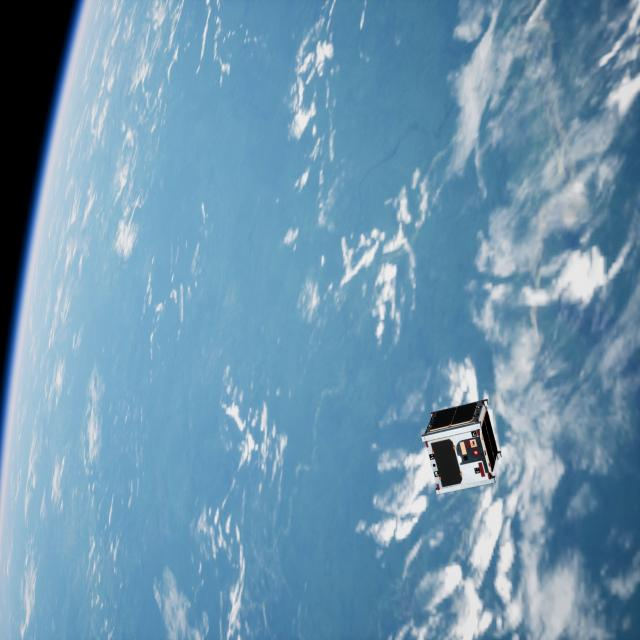satellite: (410, 397, 513, 498)
